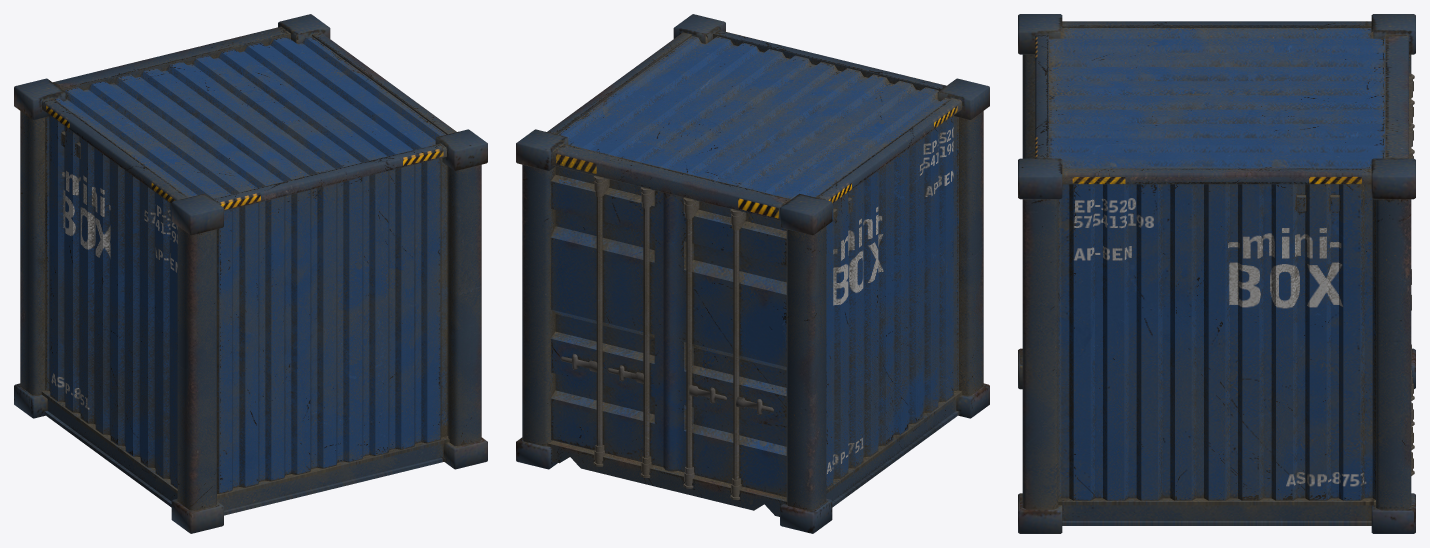
Rendered from contentor_azul_solo.fbx.
3 renders of one model, left to right at view 1: azimuth 30°, elevation 25°; view 2: azimuth 150°, elevation 25°; view 3: azimuth 270°, elevation 25°, orthographic. The views are drawn at different scales.
Visible parts, largest first — view 1: Object_2.038; view 2: Object_2.038, Object_2.036, Object_2.037; view 3: Object_2.038.
Part boxes in pixels (left/top/right/bottom): Object_2.038: left=14, top=14, right=487, bottom=533; Object_2.038: left=516, top=14, right=989, bottom=533; Object_2.036: left=663, top=192, right=786, bottom=499; Object_2.037: left=551, top=166, right=663, bottom=477; Object_2.038: left=1018, top=14, right=1415, bottom=533.
Size of the model in its own units: 278 by 285 by 287.
